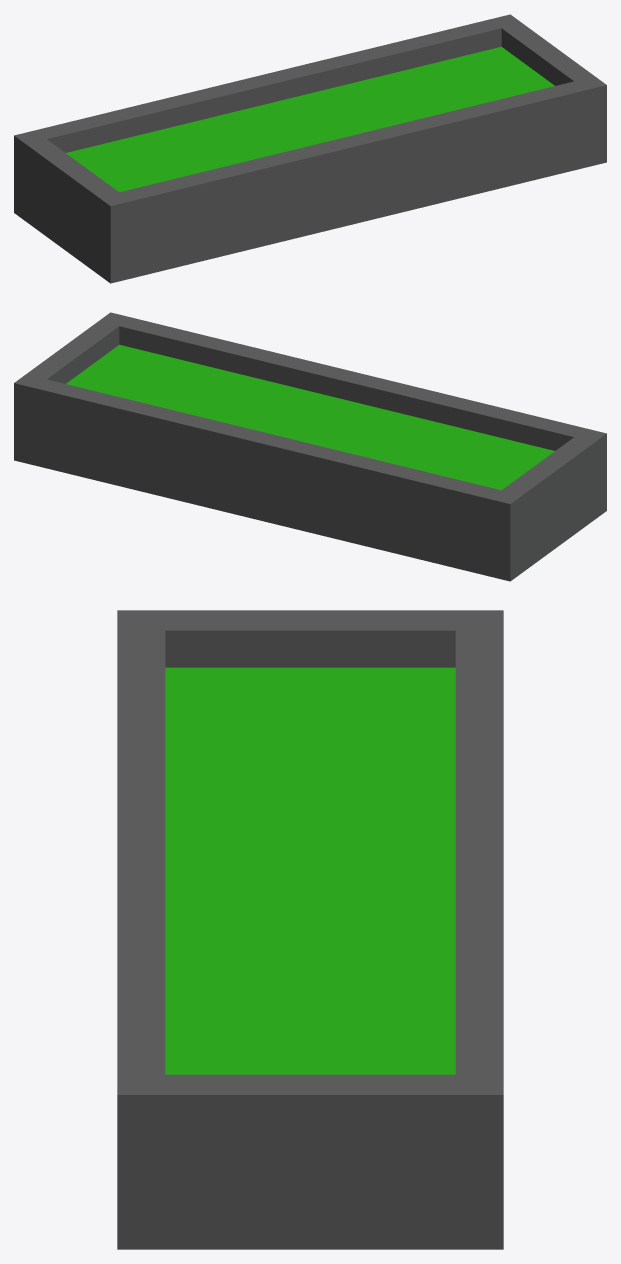
File: plantspot.fbx
3 renders of one model, top to bottom at view 1: azimuth 30°, elevation 25°; view 2: azimuth 150°, elevation 25°; view 3: azimuth 270°, elevation 25°, orthographic. The views are drawn at different scales.
Visible parts, largest first — view 1: PlantPot_D.001; view 2: PlantPot_D.001; view 3: PlantPot_D.001.
Boxes of the visible parts, x1,y1,x2,y2 form: PlantPot_D.001: (14,14,606,283); PlantPot_D.001: (14,312,606,581); PlantPot_D.001: (117,610,503,1249).
Size of the model in its own units: 515 by 76.7 by 173.
